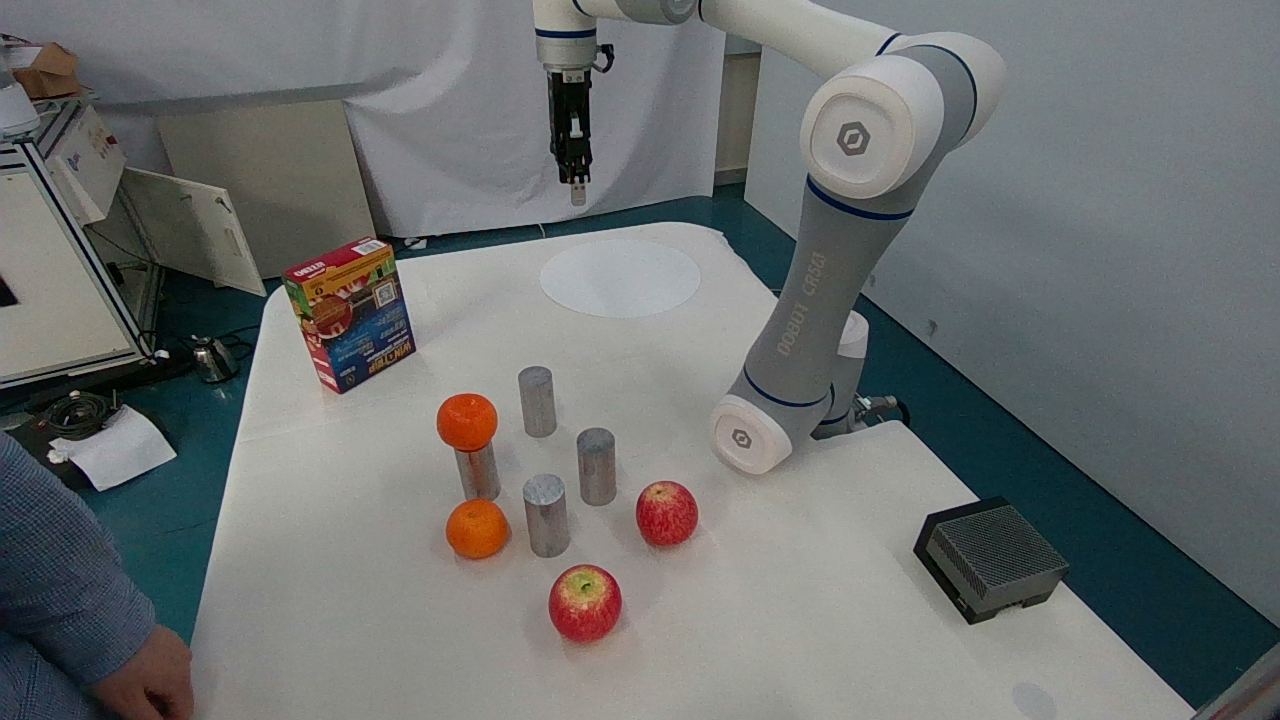apple: (619, 471, 710, 559), (541, 557, 629, 645)
metal rod: (560, 412, 629, 506), (501, 352, 569, 444), (510, 466, 578, 556)
orange: (431, 371, 505, 460), (440, 488, 512, 561)
